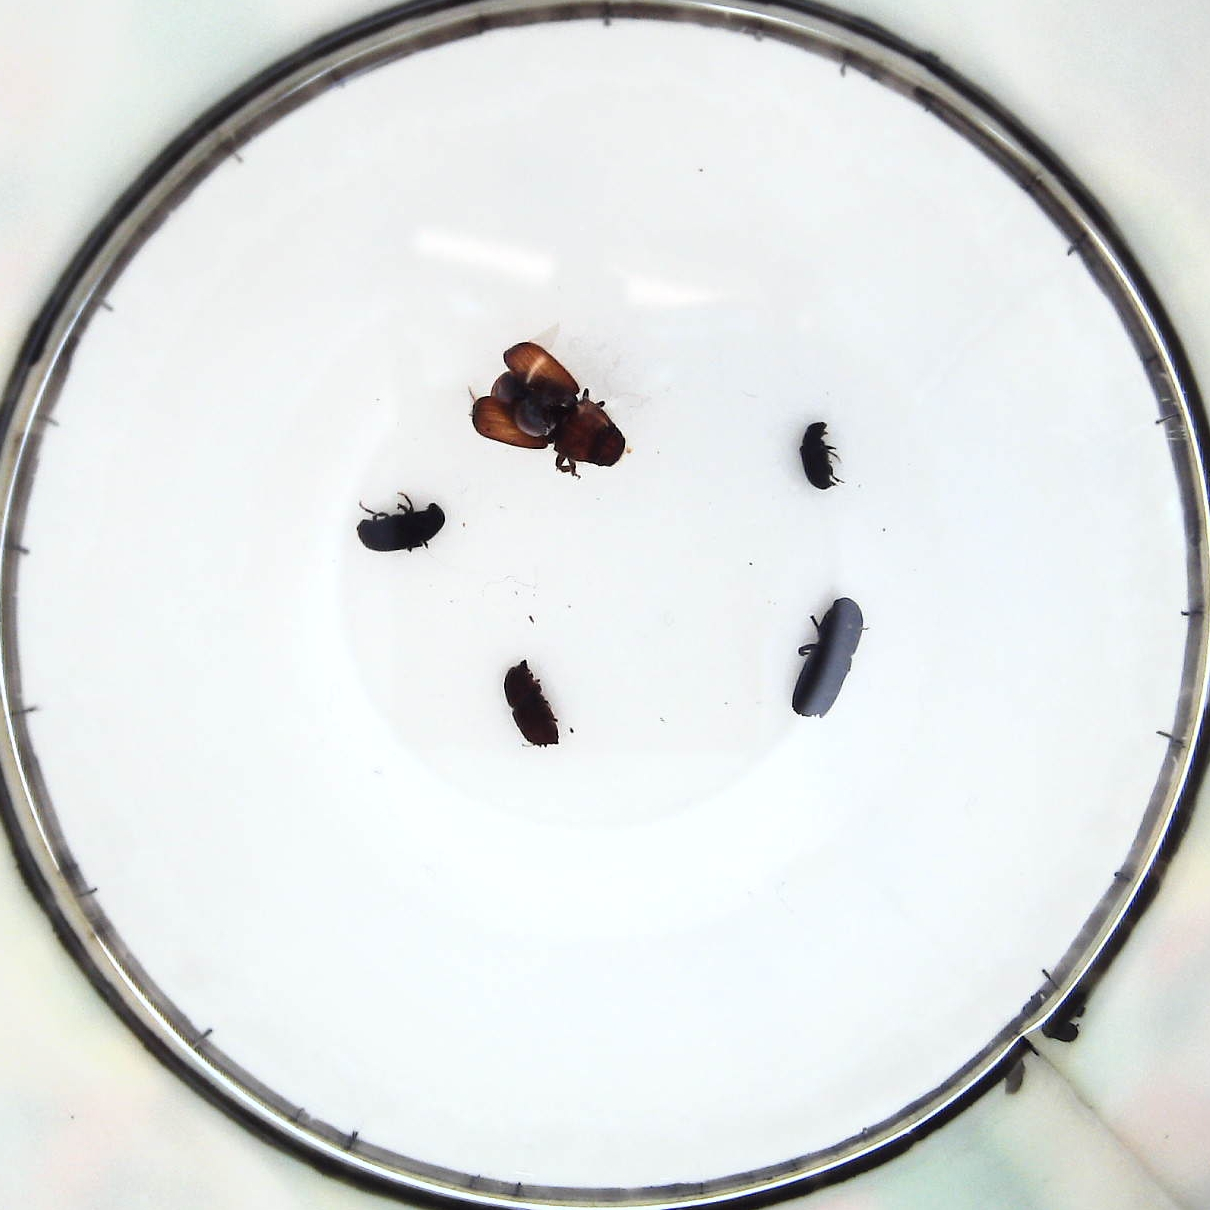Boerner: (785, 597, 864, 712)
Leconte: (466, 341, 630, 473)
Linnaeus: (511, 658, 558, 744)
armandi: (359, 498, 440, 551)
coleoptera: (796, 422, 847, 495)
